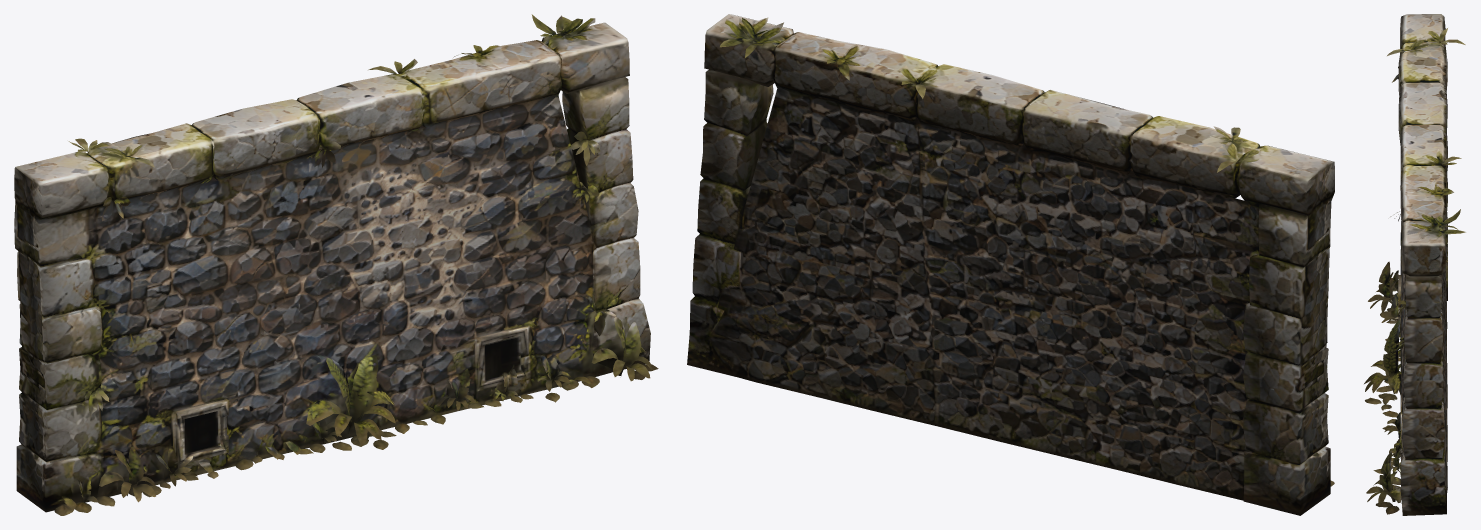
The model's file is act1_kit_v1_flint_retaining_wall.glb.
The picture shows the model from 3 angles, left to right: view 1: azimuth 30°, elevation 25°; view 2: azimuth 150°, elevation 25°; view 3: azimuth 270°, elevation 25°; orthographic projection. The views are drawn at different scales.
Parts seen in each view (by area): view 1: act1_kit_v1_flint_retaining_wall; view 2: act1_kit_v1_flint_retaining_wall; view 3: act1_kit_v1_flint_retaining_wall.
Boxes of the visible parts, bbox=[...] form: act1_kit_v1_flint_retaining_wall: bbox=[14, 14, 658, 515]; act1_kit_v1_flint_retaining_wall: bbox=[687, 14, 1334, 515]; act1_kit_v1_flint_retaining_wall: bbox=[1364, 14, 1465, 515].
Size of the model in its own units: 1 by 0.5406 by 0.1822.
Materials: 1 (1 with a texture image).
